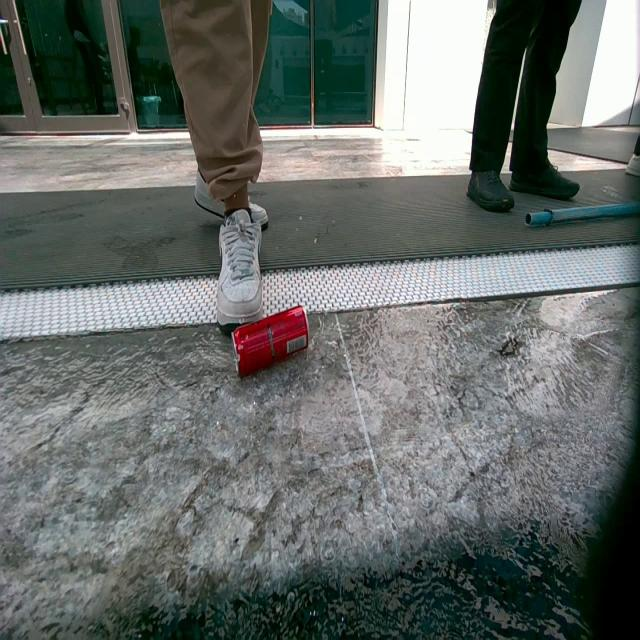Cans: (236, 309, 311, 382)
